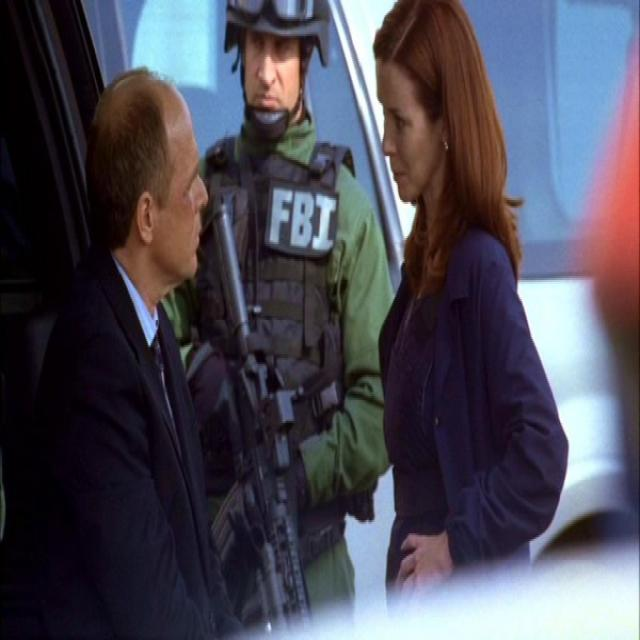rifle: (197, 200, 314, 637)
